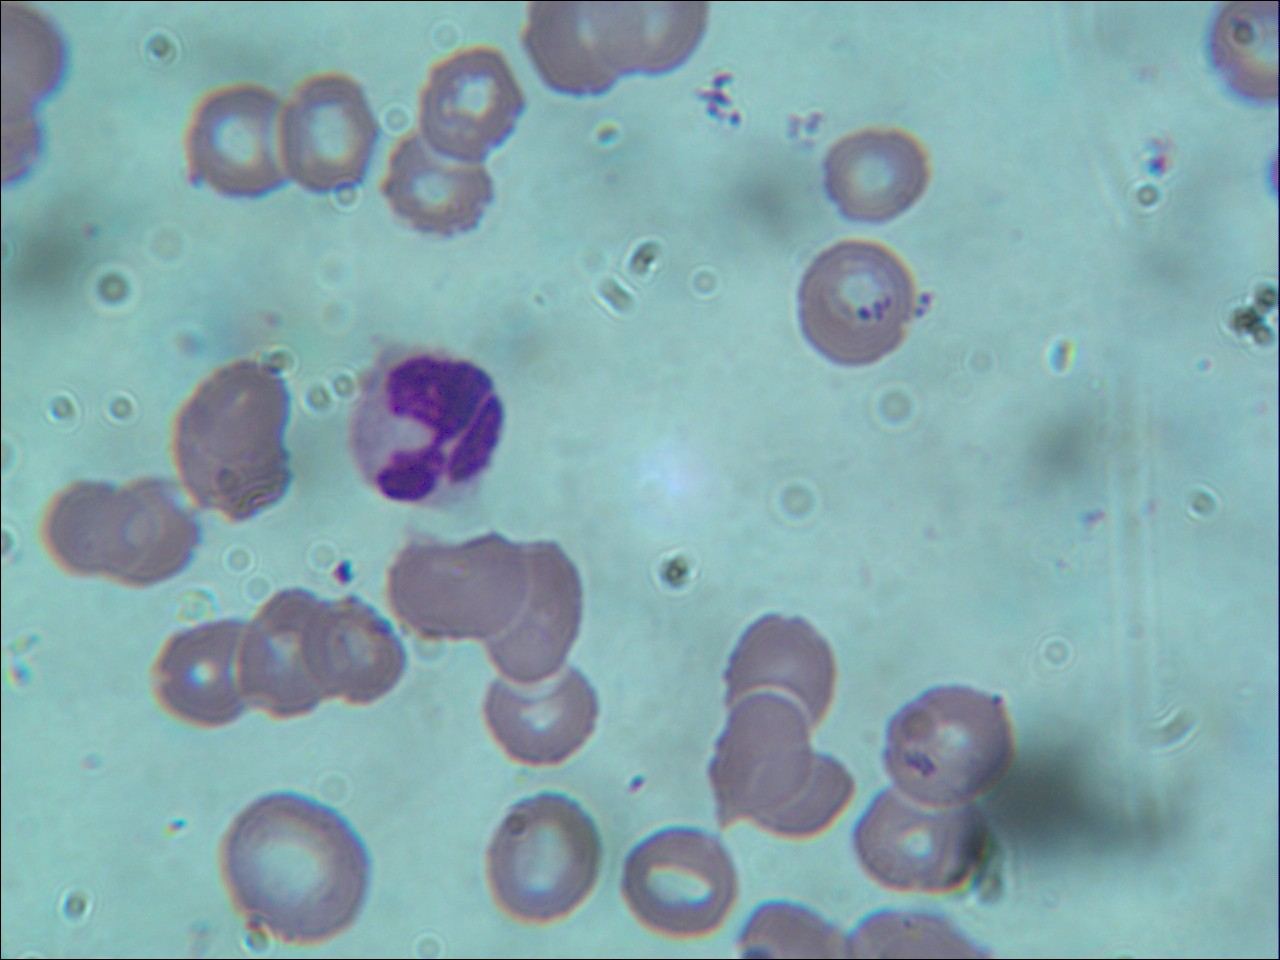Eritrosit: (215, 792, 368, 946), (883, 680, 1017, 806), (483, 790, 609, 924), (387, 531, 527, 644), (724, 609, 840, 740), (795, 242, 914, 367), (852, 787, 987, 896), (618, 825, 739, 940), (170, 405, 293, 517), (486, 541, 583, 680), (817, 121, 934, 236), (377, 130, 492, 242), (708, 690, 809, 815), (146, 615, 256, 730), (275, 74, 378, 193), (298, 592, 406, 705), (484, 665, 600, 769), (191, 81, 295, 196), (239, 583, 328, 717), (418, 49, 523, 156), (103, 474, 195, 586), (43, 480, 146, 578), (189, 358, 289, 458), (748, 744, 850, 840), (528, 2, 627, 94), (596, 1, 705, 78)
Neutrofil: (345, 342, 509, 511)
Platelet: (321, 550, 359, 592), (614, 768, 653, 806), (1140, 152, 1174, 183), (909, 283, 937, 315), (853, 301, 874, 325)
